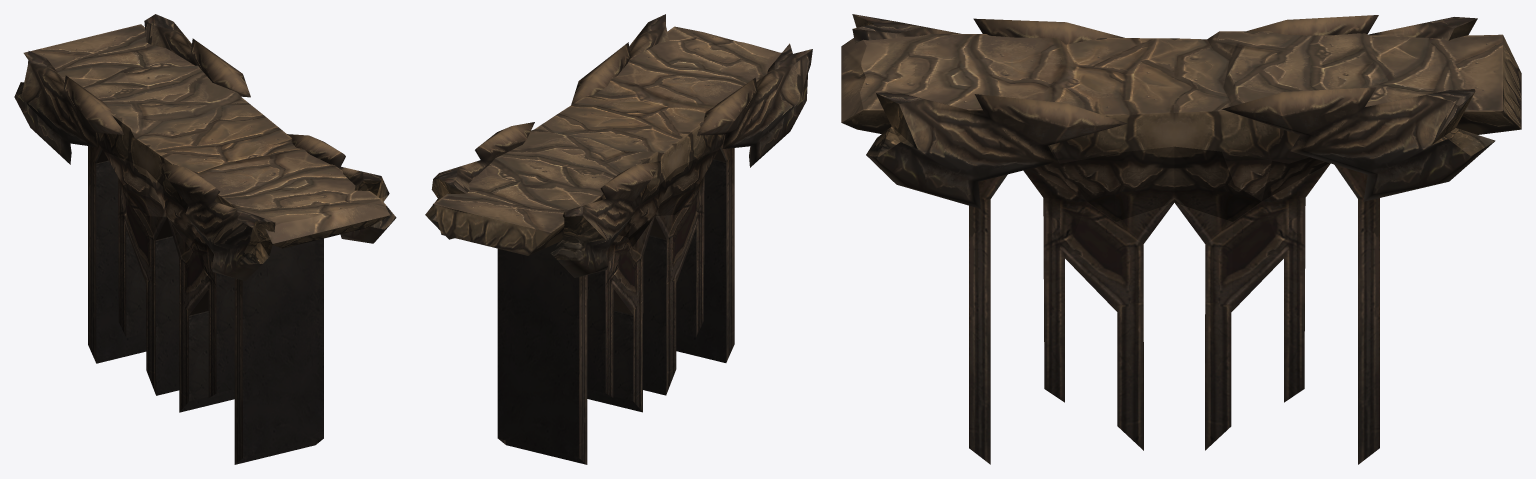
File: D_zhongdianqiao.fbx
3 views of the same model, side by side, from view 1: azimuth 30°, elevation 25°; view 2: azimuth 150°, elevation 25°; view 3: azimuth 270°, elevation 25° (orthographic). The views are drawn at different scales.
Parts seen in each view (by area): view 1: D_zhongdianqiao; view 2: D_zhongdianqiao; view 3: D_zhongdianqiao.
Boxes of the visible parts, bbox=[...] form: D_zhongdianqiao: bbox=[14, 14, 396, 464]; D_zhongdianqiao: bbox=[425, 14, 812, 464]; D_zhongdianqiao: bbox=[841, 14, 1521, 464].
Size of the model in its own units: 475 by 768 by 1208.
